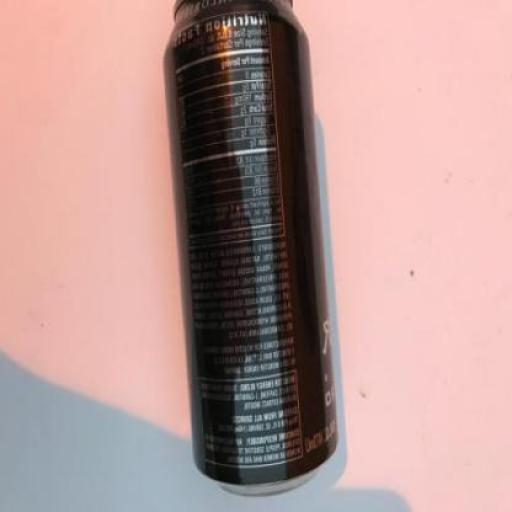metal: (164, 0, 341, 496)
